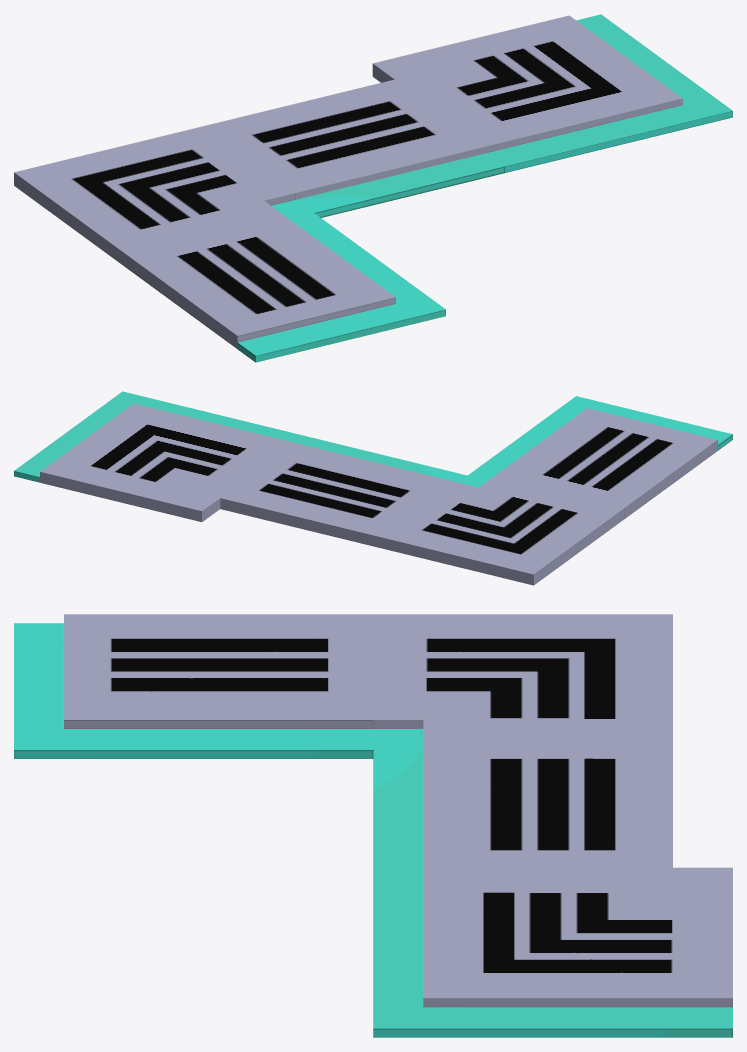
Rendered from SideFloorLobby.fbx.
The picture shows the model from 3 angles, top to bottom: view 1: azimuth 30°, elevation 25°; view 2: azimuth 150°, elevation 25°; view 3: azimuth 270°, elevation 25°; orthographic projection. The views are drawn at different scales.
Visible parts, largest first — view 1: SideFloorOuterCorner, SideFloorEnd, SideFloor, SideFloorCorner; view 2: SideFloorOuterCorner, SideFloorEnd, SideFloorCorner, SideFloor; view 3: SideFloorOuterCorner, SideFloorEnd, SideFloorCorner, SideFloor.
Boxes of the visible parts, x1=… form: SideFloorOuterCorner: x1=372, y1=14, x2=732, y2=172; SideFloorEnd: x1=124, y1=213, x2=445, y2=362; SideFloor: x1=205, y1=79, x2=504, y2=217; SideFloorCorner: x1=14, y1=126, x2=313, y2=265; SideFloorOuterCorner: x1=14, y1=391, x2=310, y2=521; SideFloorEnd: x1=468, y1=396, x2=732, y2=518; SideFloorCorner: x1=377, y1=475, x2=624, y2=585; SideFloor: x1=220, y1=437, x2=467, y2=547; SideFloorOuterCorner: x1=373, y1=867, x2=732, y2=1037; SideFloorEnd: x1=14, y1=614, x2=373, y2=758; SideFloorCorner: x1=373, y1=614, x2=672, y2=749; SideFloor: x1=373, y1=741, x2=672, y2=876.
Bounding box in the file's own units: 480 × 10 × 360.
